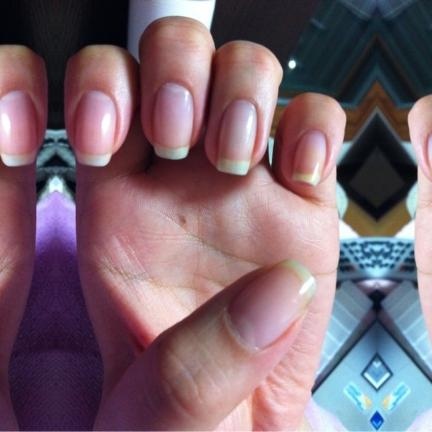Nail: (228, 259, 315, 349), (74, 90, 117, 167), (151, 83, 193, 159), (216, 100, 257, 176), (0, 90, 36, 167), (291, 130, 327, 185), (427, 134, 432, 174)
